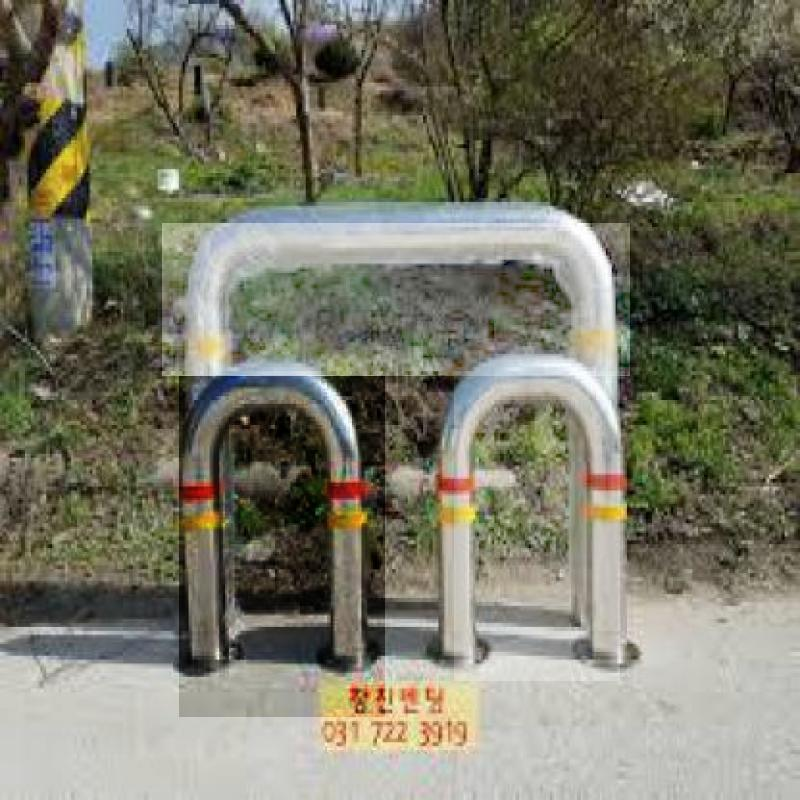bolard: (179, 350, 385, 717), (162, 223, 630, 376), (454, 371, 620, 681)
